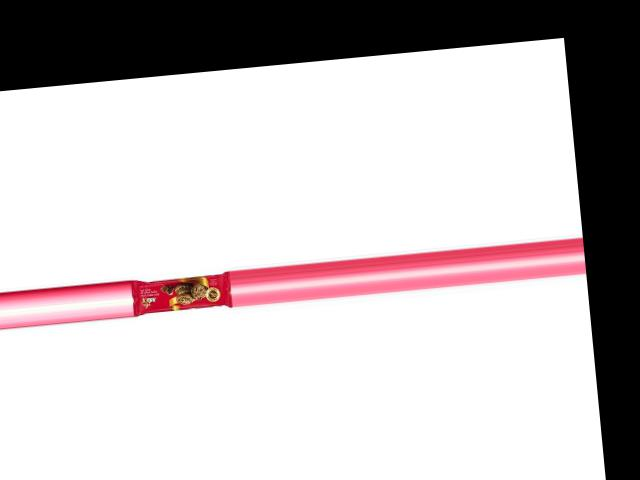chocolate: (129, 268, 230, 315)
